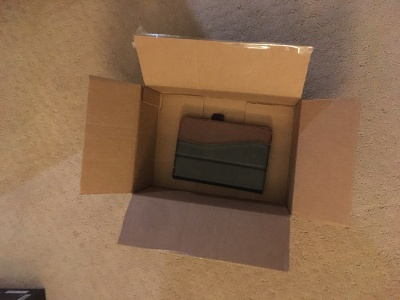innerbox: (139, 85, 294, 217)
outerbox: (84, 33, 353, 271)
product: (173, 116, 267, 190)
